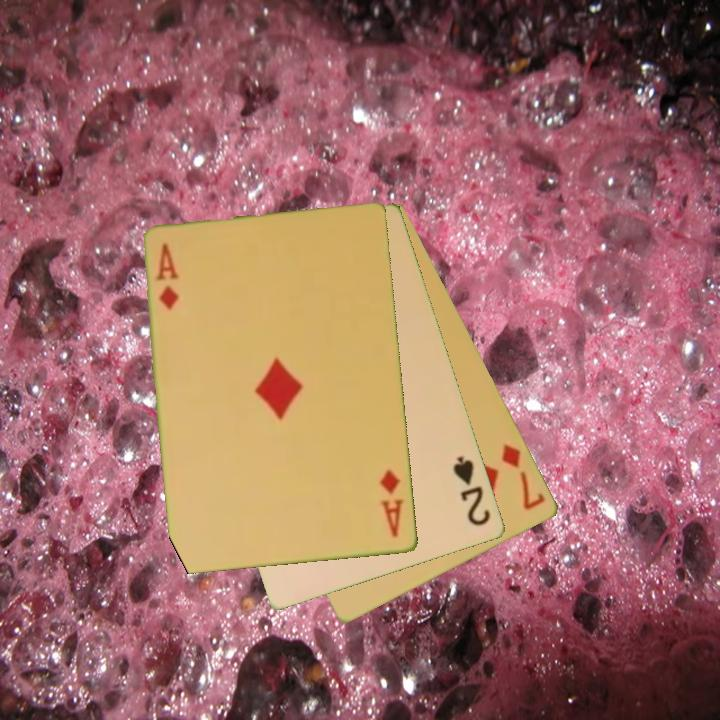2s: (450, 452, 494, 529)
7d: (498, 441, 549, 513)
Ad: (376, 466, 407, 541), (153, 240, 182, 313)
